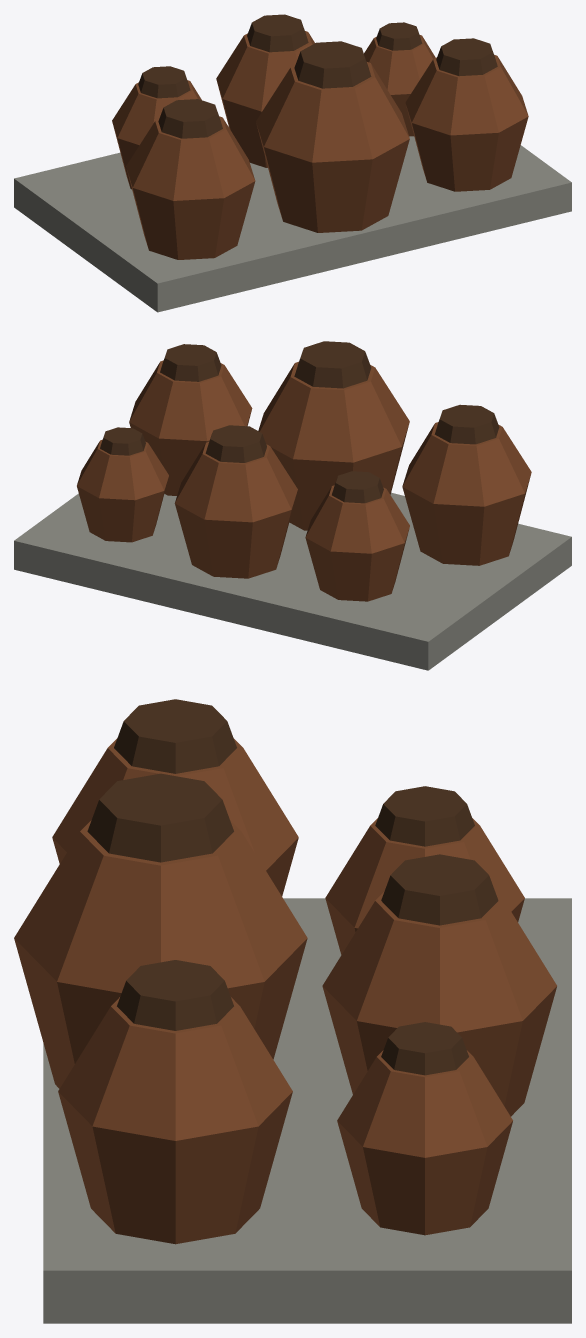
The model's file is prop_jangdok.obj.
3 renders of one model, top to bottom at view 1: azimuth 30°, elevation 25°; view 2: azimuth 150°, elevation 25°; view 3: azimuth 270°, elevation 25°, orthographic. The views are drawn at different scales.
Visible parts, largest first — view 1: prop_jangdok_0_1, prop_jangdok_0_0, prop_jangdok_0_2; view 2: prop_jangdok_0_1, prop_jangdok_0_0, prop_jangdok_0_2; view 3: prop_jangdok_0_1, prop_jangdok_0_0, prop_jangdok_0_2.
Part boxes in pixels (x1,y1,x2,y2): prop_jangdok_0_1: (112, 31, 528, 259); prop_jangdok_0_0: (14, 126, 571, 312); prop_jangdok_0_2: (138, 14, 497, 138); prop_jangdok_0_1: (77, 360, 531, 601); prop_jangdok_0_0: (14, 492, 571, 670); prop_jangdok_0_2: (100, 341, 499, 503); prop_jangdok_0_1: (14, 738, 556, 1244); prop_jangdok_0_0: (43, 898, 571, 1323); prop_jangdok_0_2: (87, 699, 498, 1075).
Size of the model in its own units: 3 by 1.27 by 1.9.
